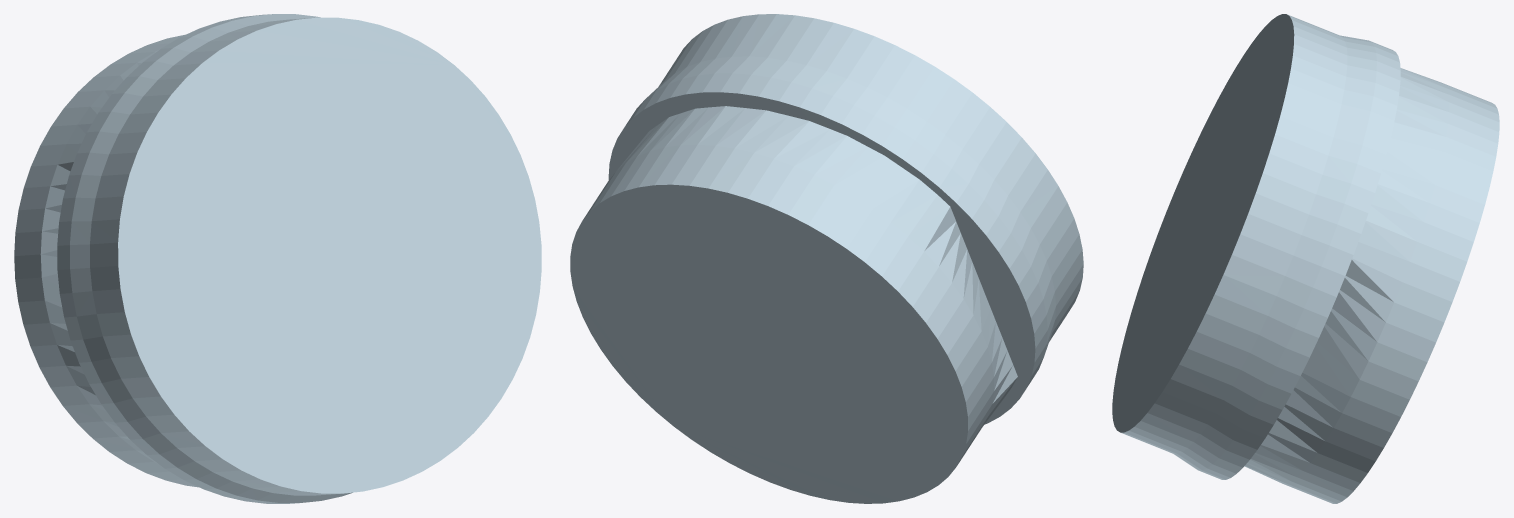
Rendered from left_wrist_z_link_visual_2.obj.full.glb.
3 views of the same model, side by side, from view 1: azimuth 30°, elevation 25°; view 2: azimuth 150°, elevation 25°; view 3: azimuth 270°, elevation 25° (orthographic). The views are drawn at different scales.
Size of the model in its own units: 0.125 by 0.1331 by 0.1047.
